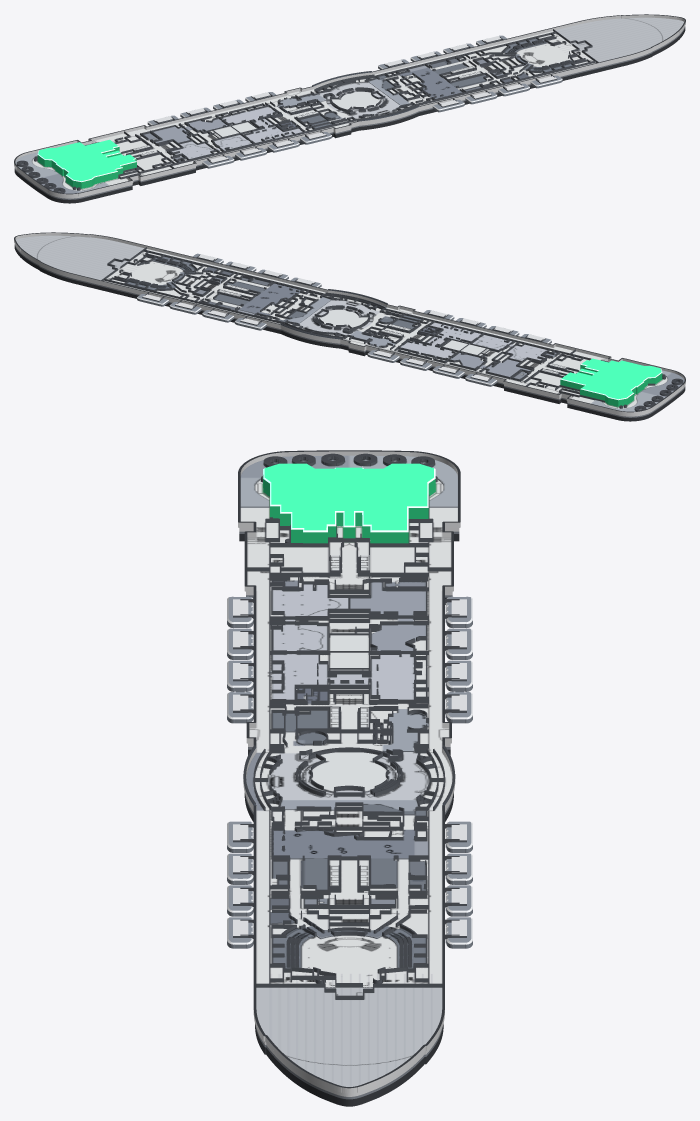
Rendered from Deck7_Il_Rugantino_Highlight.glb.
3 renders of one model, top to bottom at view 1: azimuth 30°, elevation 25°; view 2: azimuth 150°, elevation 25°; view 3: azimuth 270°, elevation 25°, orthographic. The views are drawn at different scales.
Parts seen in each view (by area): view 1: Deck7_Il_Rugantino_Main_Floor_Slab, Deck7_Il_Rugantino_Interior_Walls_Monochrome, Deck7_Il_Rugantino_Outer_Hull_Bulwark_Wall, Deck7_Il_Rugantino_MDR_Embossed_Highlight_Block, Deck7_Il_Rugantino_Hull_Plinth_Obsidian, Deck7_Il_Rugantino_ZoneRelief_Piazza_di_Spagna, Deck7_Il_Rugantino_Hull_Waterline_Titanium, Deck7_Il_Rugantino_ZoneRelief_Laguna_Casino, Deck7_Il_Rugantino_ZoneRelief_Sunset_Bar, Deck7_Il_Rugantino_ZoneRelief_Colosseo_Atrium, Deck7_Il_Rugantino_ZoneRelief_Sanremo_Theatre_Balcony, Deck7_Il_Rugantino_ZoneRelief_Lungomare_Port (+1 smaller); view 2: Deck7_Il_Rugantino_Main_Floor_Slab, Deck7_Il_Rugantino_Interior_Walls_Monochrome, Deck7_Il_Rugantino_Outer_Hull_Bulwark_Wall, Deck7_Il_Rugantino_MDR_Embossed_Highlight_Block, Deck7_Il_Rugantino_Hull_Plinth_Obsidian, Deck7_Il_Rugantino_ZoneRelief_Piazza_di_Spagna, Deck7_Il_Rugantino_Hull_Waterline_Titanium, Deck7_Il_Rugantino_ZoneRelief_Laguna_Casino, Deck7_Il_Rugantino_ZoneRelief_Sunset_Bar, Deck7_Il_Rugantino_ZoneRelief_Colosseo_Atrium, Deck7_Il_Rugantino_ZoneRelief_Sanremo_Theatre_Balcony, Deck7_Il_Rugantino_ZoneRelief_Lungomare_Port (+2 smaller); view 3: Deck7_Il_Rugantino_Main_Floor_Slab, Deck7_Il_Rugantino_Interior_Walls_Monochrome, Deck7_Il_Rugantino_MDR_Embossed_Highlight_Block, Deck7_Il_Rugantino_Outer_Hull_Bulwark_Wall, Deck7_Il_Rugantino_ZoneRelief_Piazza_di_Spagna, Deck7_Il_Rugantino_ZoneRelief_Laguna_Casino, Deck7_Il_Rugantino_ZoneRelief_Sunset_Bar, Deck7_Il_Rugantino_ZoneRelief_Colosseo_Atrium, Deck7_Il_Rugantino_Hull_Plinth_Obsidian, Deck7_Il_Rugantino_ZoneRelief_Sanremo_Theatre_Balcony, Deck7_Il_Rugantino_Engine_Casing_3D_Core, Deck7_Il_Rugantino_ZoneRelief_Lungomare_Port (+2 smaller).
Boxes of the visible parts, x1,y1,x2,y2 form: Deck7_Il_Rugantino_Main_Floor_Slab: [15, 17, 684, 198]; Deck7_Il_Rugantino_Interior_Walls_Monochrome: [16, 29, 598, 193]; Deck7_Il_Rugantino_Outer_Hull_Bulwark_Wall: [14, 14, 685, 196]; Deck7_Il_Rugantino_MDR_Embossed_Highlight_Block: [37, 139, 136, 188]; Deck7_Il_Rugantino_Hull_Plinth_Obsidian: [14, 27, 685, 203]; Deck7_Il_Rugantino_ZoneRelief_Piazza_di_Spagna: [172, 106, 302, 158]; Deck7_Il_Rugantino_Hull_Waterline_Titanium: [14, 26, 685, 199]; Deck7_Il_Rugantino_ZoneRelief_Laguna_Casino: [399, 67, 462, 98]; Deck7_Il_Rugantino_ZoneRelief_Sunset_Bar: [153, 119, 227, 142]; Deck7_Il_Rugantino_ZoneRelief_Colosseo_Atrium: [332, 91, 380, 109]; Deck7_Il_Rugantino_ZoneRelief_Sanremo_Theatre_Balcony: [503, 38, 572, 71]; Deck7_Il_Rugantino_ZoneRelief_Lungomare_Port: [15, 152, 58, 179]; Deck7_Il_Rugantino_Main_Floor_Slab: [15, 235, 684, 416]; Deck7_Il_Rugantino_Interior_Walls_Monochrome: [101, 247, 683, 411]; Deck7_Il_Rugantino_Outer_Hull_Bulwark_Wall: [14, 232, 685, 414]; Deck7_Il_Rugantino_MDR_Embossed_Highlight_Block: [560, 358, 662, 406]; Deck7_Il_Rugantino_Hull_Plinth_Obsidian: [14, 245, 685, 421]; Deck7_Il_Rugantino_ZoneRelief_Piazza_di_Spagna: [400, 322, 547, 360]; Deck7_Il_Rugantino_Hull_Waterline_Titanium: [14, 244, 685, 417]; Deck7_Il_Rugantino_ZoneRelief_Laguna_Casino: [239, 283, 300, 315]; Deck7_Il_Rugantino_ZoneRelief_Sunset_Bar: [450, 353, 530, 376]; Deck7_Il_Rugantino_ZoneRelief_Colosseo_Atrium: [319, 309, 367, 327]; Deck7_Il_Rugantino_ZoneRelief_Sanremo_Theatre_Balcony: [127, 256, 196, 289]; Deck7_Il_Rugantino_ZoneRelief_Lungomare_Port: [591, 391, 664, 411]; Deck7_Il_Rugantino_Main_Floor_Slab: [239, 479, 459, 1096]; Deck7_Il_Rugantino_Interior_Walls_Monochrome: [247, 453, 451, 999]; Deck7_Il_Rugantino_MDR_Embossed_Highlight_Block: [263, 463, 435, 543]; Deck7_Il_Rugantino_Outer_Hull_Bulwark_Wall: [238, 450, 460, 1093]; Deck7_Il_Rugantino_ZoneRelief_Piazza_di_Spagna: [270, 584, 414, 699]; Deck7_Il_Rugantino_ZoneRelief_Laguna_Casino: [273, 829, 415, 859]; Deck7_Il_Rugantino_ZoneRelief_Sunset_Bar: [350, 582, 425, 650]; Deck7_Il_Rugantino_ZoneRelief_Colosseo_Atrium: [310, 752, 388, 792]; Deck7_Il_Rugantino_Hull_Plinth_Obsidian: [239, 534, 459, 1106]; Deck7_Il_Rugantino_ZoneRelief_Sanremo_Theatre_Balcony: [272, 926, 425, 968]; Deck7_Il_Rugantino_Engine_Casing_3D_Core: [330, 632, 368, 670]; Deck7_Il_Rugantino_ZoneRelief_Lungomare_Port: [349, 455, 457, 507].
Size of the model in its own units: 67.48 by 1.46 by 11.
18 materials, 2 textured.
